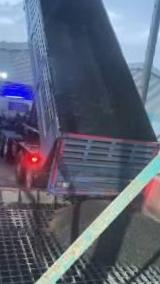gravel: (87, 205, 160, 270), (52, 201, 109, 244)
